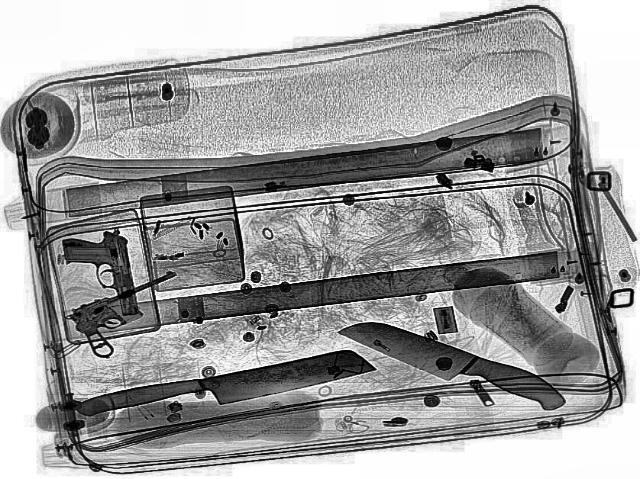Gun: (56, 266, 212, 362), (58, 224, 148, 324)
Knife: (330, 306, 578, 421), (71, 345, 381, 427)
